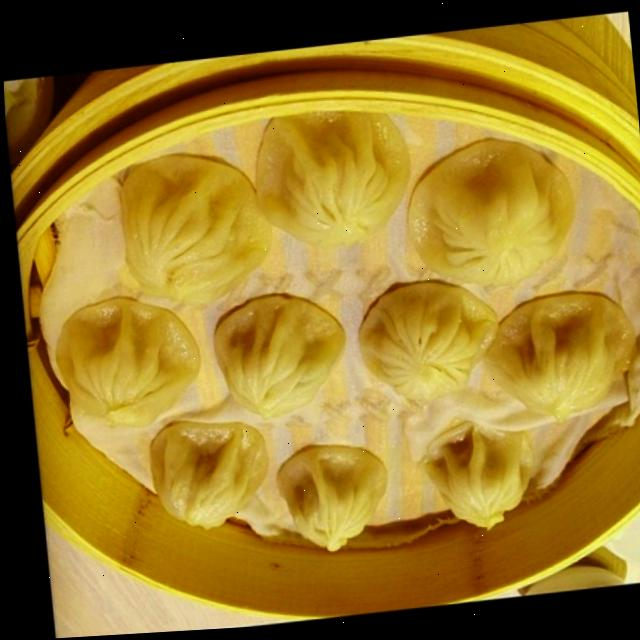带馅早点: (20, 34, 640, 639)
